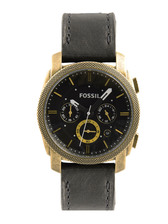watch: (37, 12, 149, 215)
